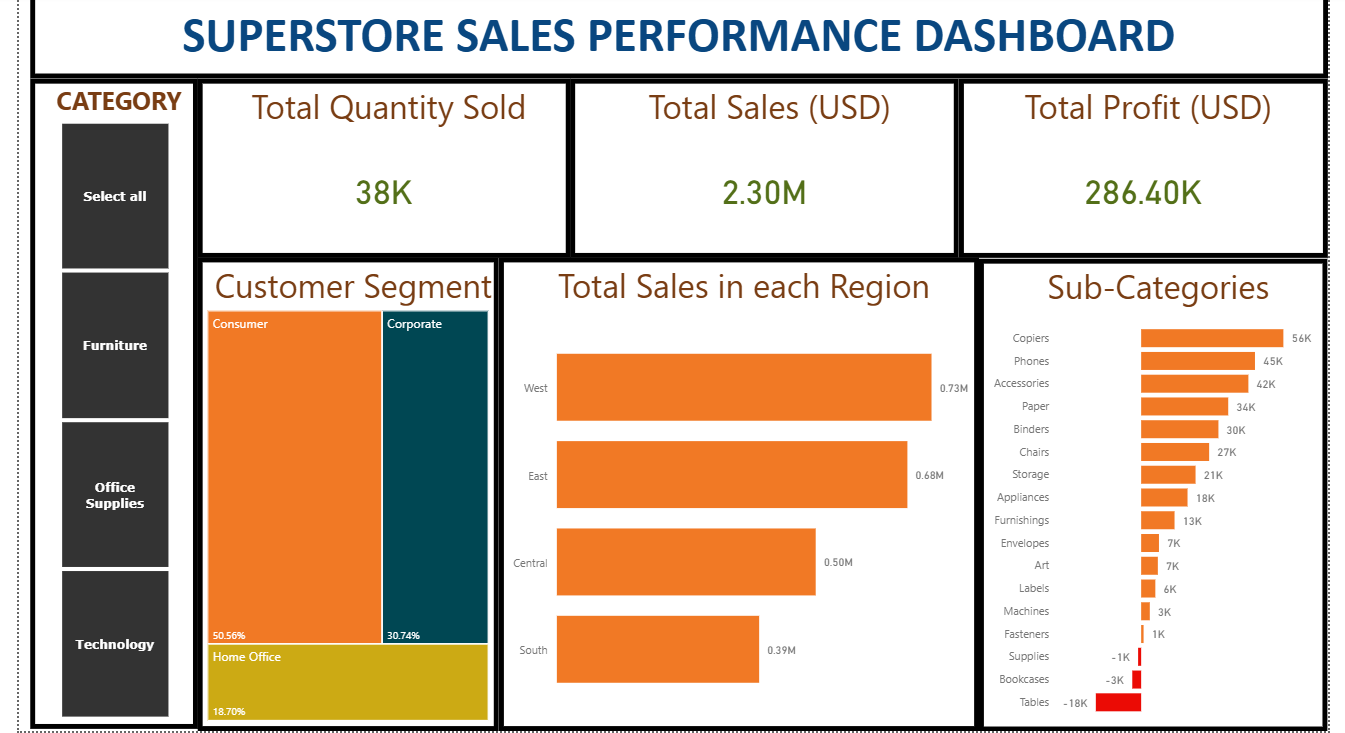

The dashboard page shown, as its layout file describes it:
{"tool":"powerbi","page":{"name":"Page 1","canvas":[1280,720],"ordinal":0},"visuals":[{"type":"textbox","box":[11,0,1269.3,81.9],"z":1000},{"type":"slicer","title":"CATEGORY","fields":{"Values":["Sample - Superstore1.Category"]},"box":[11.2,82.5,163.8,636.2],"z":2000},{"type":"card","title":"Total Quantity Sold","fields":{"Values":["Sum(Sample - Superstore1.Quantity)"]},"box":[174.9,81.9,364.4,174.9],"z":3000},{"type":"card","title":"Total Sales (USD)","fields":{"Values":["Sum(Sample - Superstore1.Sales)"]},"box":[539.3,81.9,380.3,174.9],"z":4000},{"type":"card","title":"Total Profit (USD)","fields":{"Values":["Sum(Sample - Superstore1.Profit)"]},"box":[919.6,81.9,360.7,174.9],"z":5000},{"type":"treemap","title":"Customer Segment","fields":{"Group":["Sample - Superstore1.Segment"],"Values":["Sum(Sample - Superstore1.Sales)"]},"box":[174.9,256.8,294.7,463.5],"z":6000},{"type":"clusteredBarChart","title":"Sub-Categories ","fields":{"Category":["Sample - Superstore1.Sub-Category"],"Y":["Sum(Sample - Superstore1.Profit)"]},"box":[939.1,258,341.2,462.2],"z":7000},{"type":"clusteredBarChart","title":"Total Sales in each Region","fields":{"Category":["Sample - Superstore1.Region"],"Y":["Sum(Sample - Superstore1.Sales)"]},"box":[469.6,256.8,469.6,463.5],"z":8000}]}

Visuals, with their boxes in screenshot pixels (x1, y1, x2, y2):
textbox: Rect(32, 0, 1305, 79)
"CATEGORY" slicer: Rect(32, 79, 196, 717)
"Total Quantity Sold" card: Rect(196, 79, 562, 254)
"Total Sales (USD)" card: Rect(562, 79, 943, 254)
"Total Profit (USD)" card: Rect(943, 79, 1305, 254)
"Customer Segment" treemap: Rect(196, 254, 492, 719)
"Sub-Categories " clusteredBarChart: Rect(963, 255, 1305, 719)
"Total Sales in each Region" clusteredBarChart: Rect(492, 254, 963, 719)
